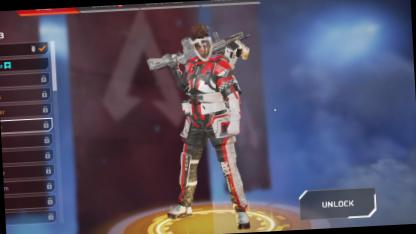Target: (173, 21, 234, 176)
